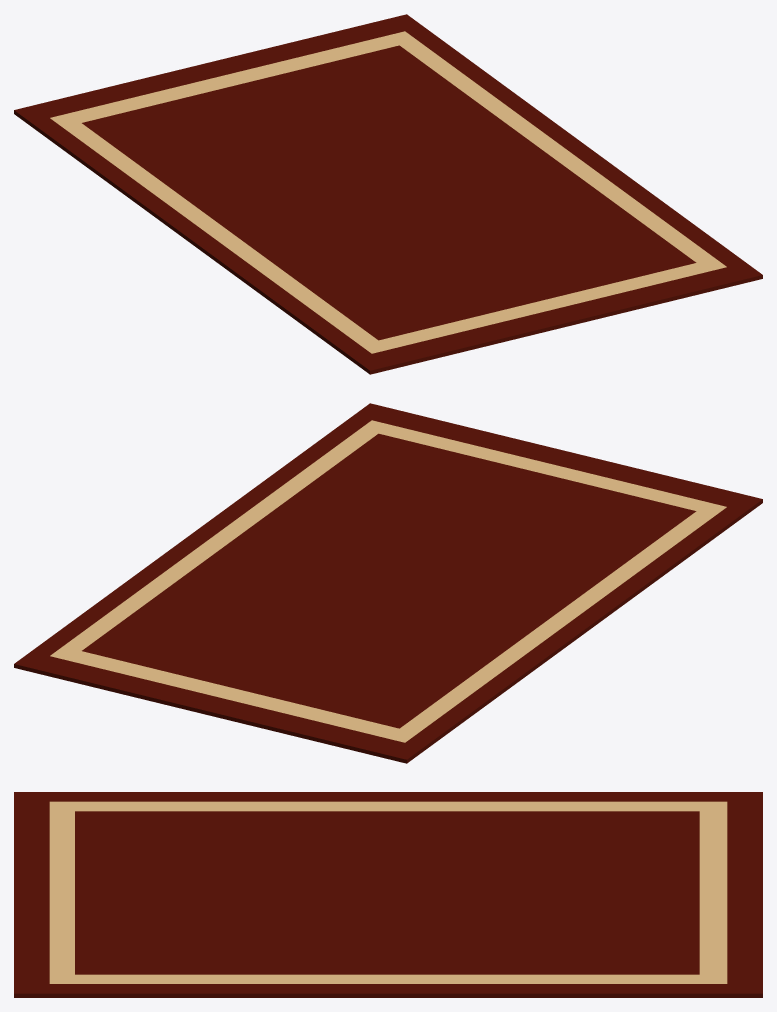
The model's file is Capet.glb.
The picture shows the model from 3 angles, top to bottom: view 1: azimuth 30°, elevation 25°; view 2: azimuth 150°, elevation 25°; view 3: azimuth 270°, elevation 25°; orthographic projection. The views are drawn at different scales.
Visible parts, largest first — view 1: Plane.038; view 2: Plane.038; view 3: Plane.038.
Part boxes in pixels (bbox=[...]): Plane.038: bbox=[14, 14, 762, 374]; Plane.038: bbox=[14, 403, 762, 763]; Plane.038: bbox=[14, 792, 762, 997].
Bounding box in the file's own units: 2 × 0.019 × 3.14.
